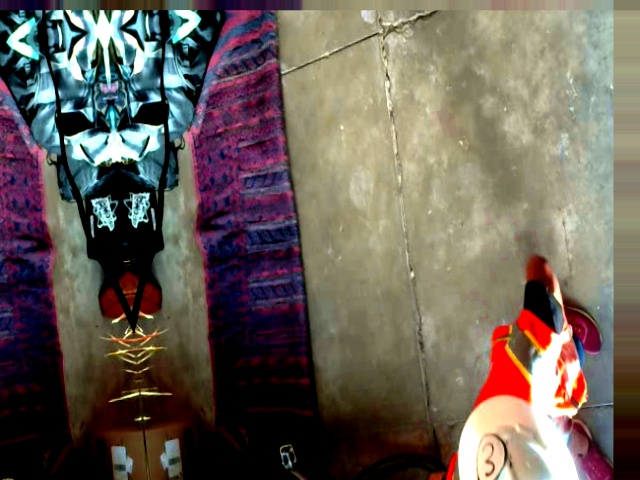three: (470, 430, 509, 479)
